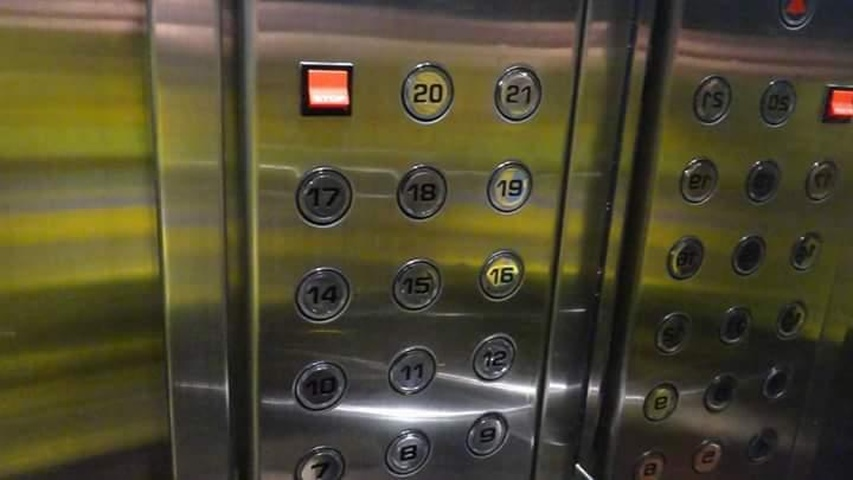10: (292, 355, 349, 415)
11: (382, 342, 439, 402)
12: (467, 330, 517, 386)
14: (294, 264, 351, 324)
15: (389, 254, 446, 314)
16: (475, 249, 528, 303)
17: (295, 164, 353, 228)
18: (393, 160, 451, 224)
19: (484, 158, 535, 216)
20: (398, 61, 456, 125)
21: (488, 61, 546, 125)
7: (294, 442, 346, 480)
8: (382, 427, 431, 479), (631, 448, 669, 480)
9: (464, 408, 513, 460)
empty: (744, 157, 784, 204), (729, 230, 769, 277), (715, 301, 755, 348), (701, 366, 741, 413), (742, 422, 780, 469), (760, 361, 795, 403)
switch: (295, 56, 358, 120)
unknown: (691, 73, 735, 127), (755, 73, 799, 127), (678, 155, 722, 209), (664, 229, 708, 283), (654, 307, 693, 360), (641, 380, 682, 427), (800, 157, 840, 204), (789, 228, 822, 274), (775, 295, 808, 341), (690, 438, 728, 474)
